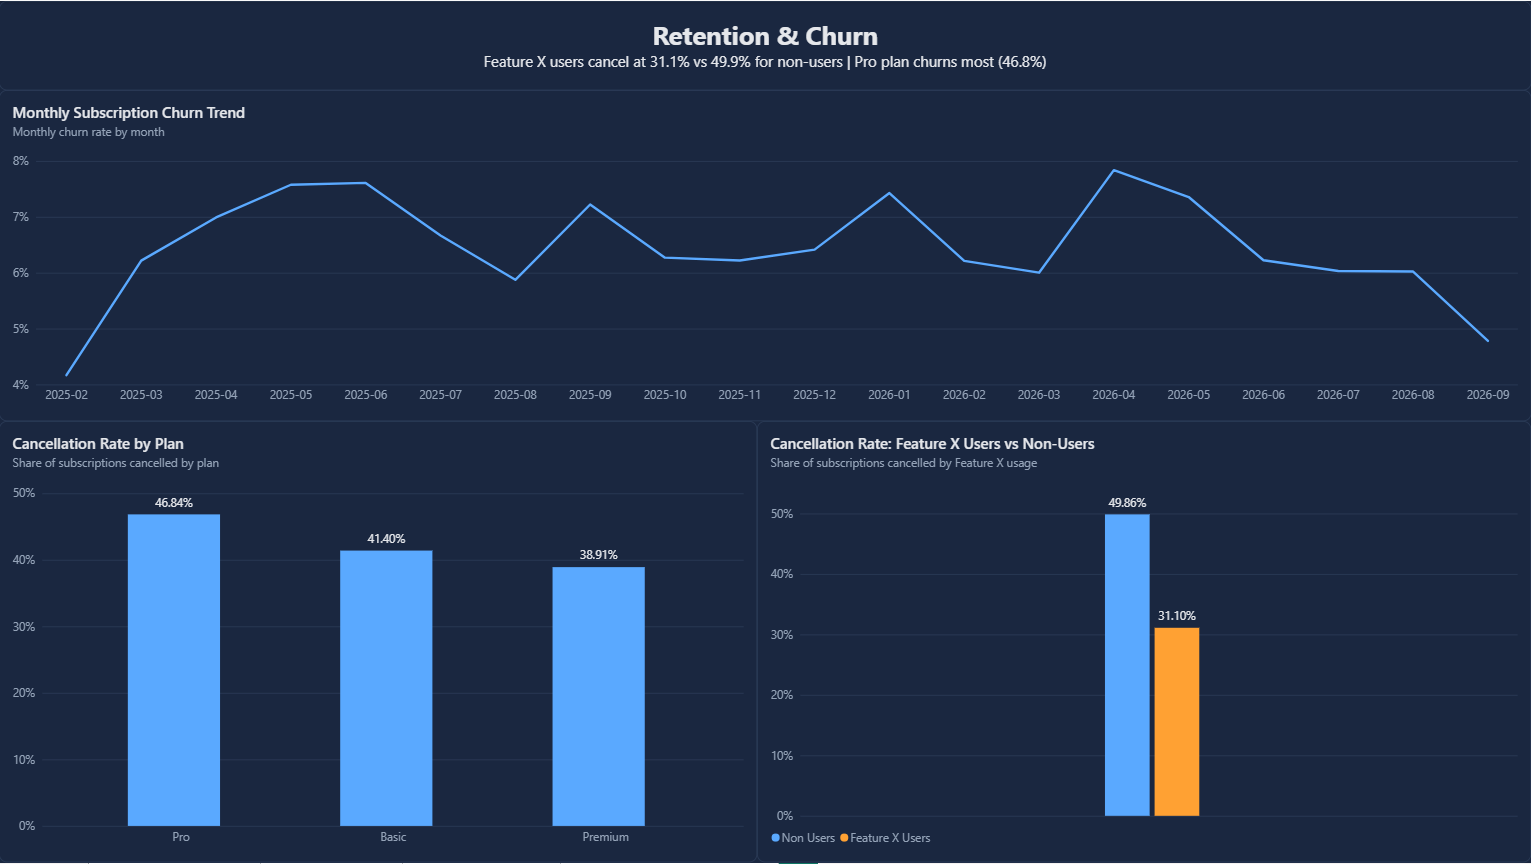

What the dashboard file says about the page in this screenshot:
{"tool":"powerbi","page":{"name":"Retention & Churn","canvas":[1920,1080],"ordinal":1},"visuals":[{"type":"lineChart","title":"Monthly Subscription Churn Trend","fields":{"Category":["DateTable.Year-Month"],"Y":["subscriptions_clean.Monthly Churn Rate"]},"box":[0,111.7,1920,415],"z":0},{"type":"clusteredColumnChart","title":"Cancellation Rate by Plan","fields":{"Category":["subscriptions_clean.plan"],"Y":["subscriptions_clean.Plan Churn Rate"]},"box":[0,526.7,950,553.3],"z":1000},{"type":"clusteredColumnChart","title":"Cancellation Rate: Feature X Users vs Non-Users","fields":{"Y":["subscriptions_clean.Non Feature X Churn Rate","subscriptions_clean.Feature X Churn Rate"]},"box":[950,526.7,970,553.3],"z":2000},{"type":"textbox","box":[0,0,1920,111.7],"z":2001}]}

Visuals, with their boxes in screenshot pixels (x1, y1, x2, y2), scaled from the page's 1920x1080 canvas onto the 1531x864 screenshot:
"Monthly Subscription Churn Trend" lineChart: [0,89,1530,421]
"Cancellation Rate by Plan" clusteredColumnChart: [0,421,758,863]
"Cancellation Rate: Feature X Users vs Non-Users" clusteredColumnChart: [758,421,1530,863]
textbox: [0,0,1530,89]
